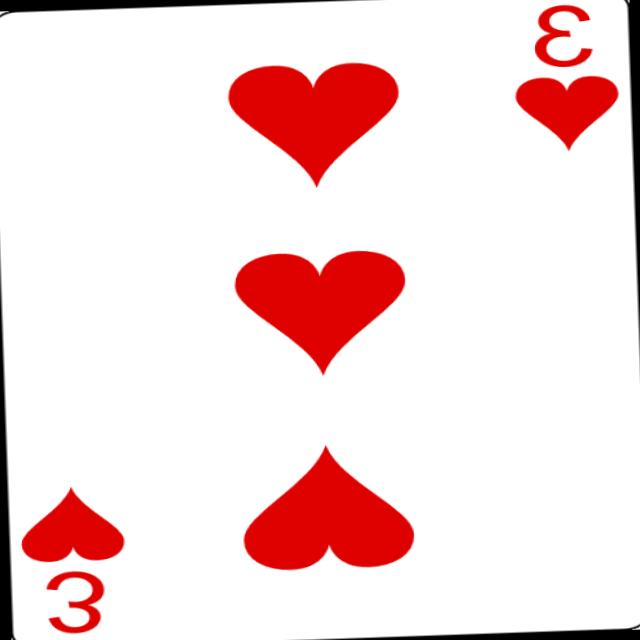Heart: (226, 60, 403, 190), (232, 248, 409, 378), (240, 442, 416, 572), (18, 484, 126, 562), (514, 74, 620, 153)
